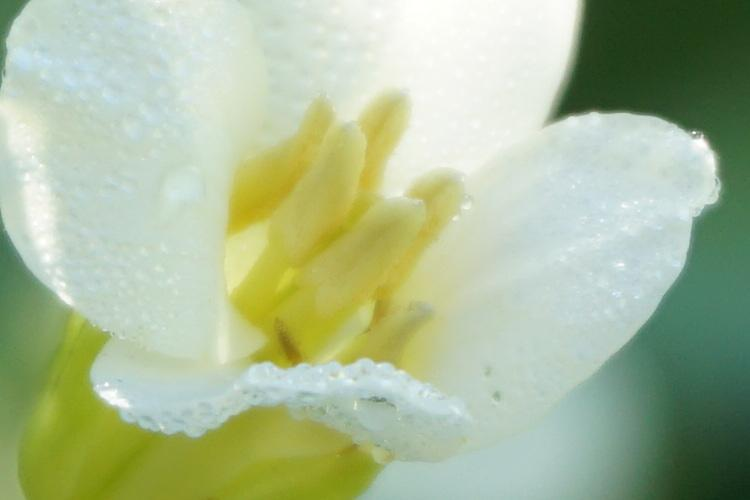white: (15, 6, 683, 427)
